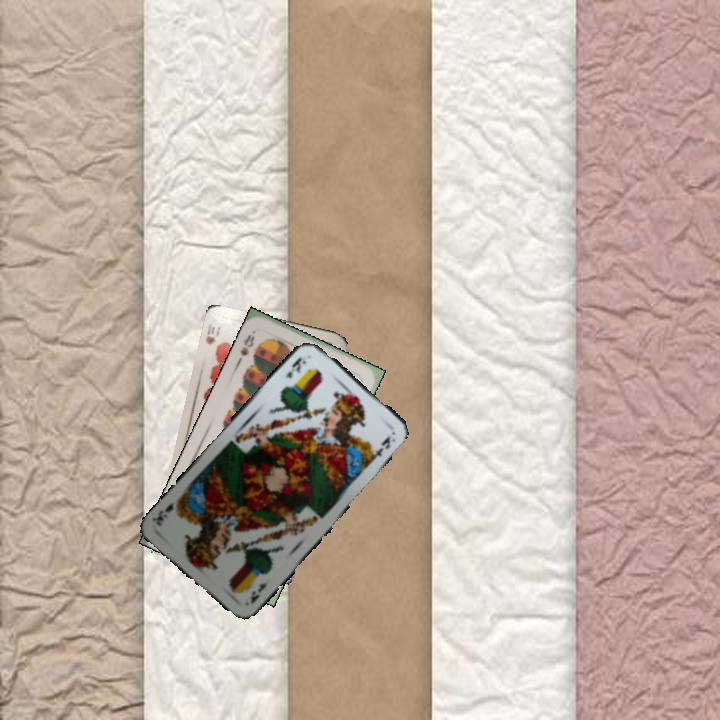EK: (283, 353, 309, 381), (246, 578, 270, 606)
H10: (201, 320, 223, 348)
S8: (234, 330, 257, 364)
